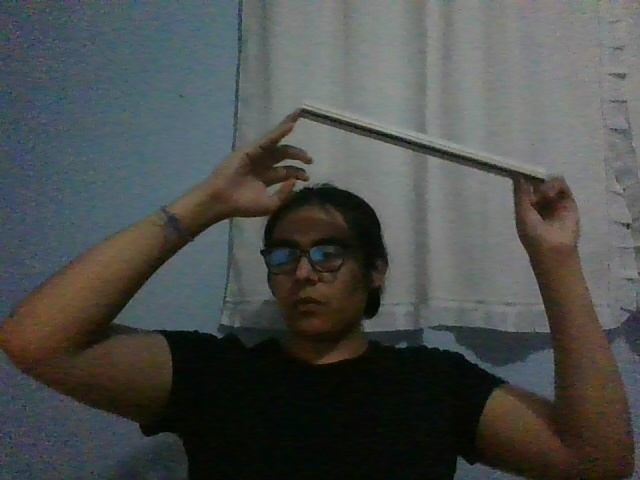regla: (297, 101, 547, 184)
